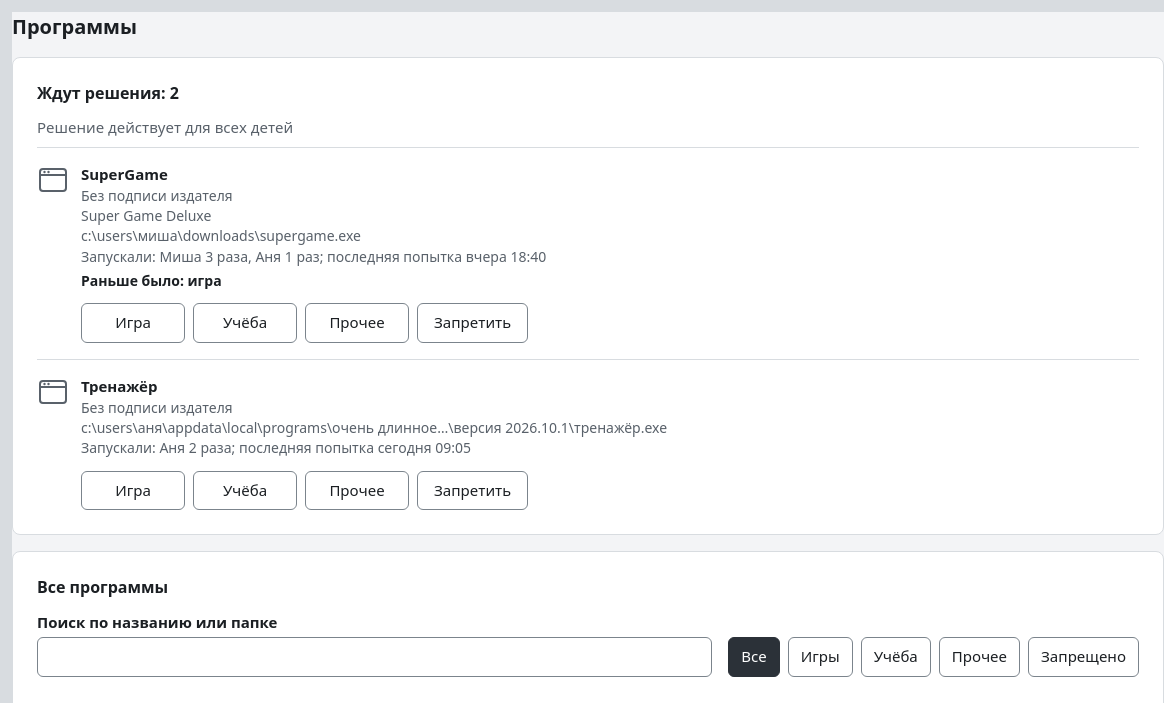
Scenario: Программы: ждут решения › «Игра»: решение сразу, строка уходит в список с категорией «Игры», сообщение с «Отменить»
Expected: the heading "Ждут решения: 2" is shown, [37,82,179,104]
Step 1. Click the button "Игра" below "Раньше было: игра" → (133, 323), box [81,303,185,343]
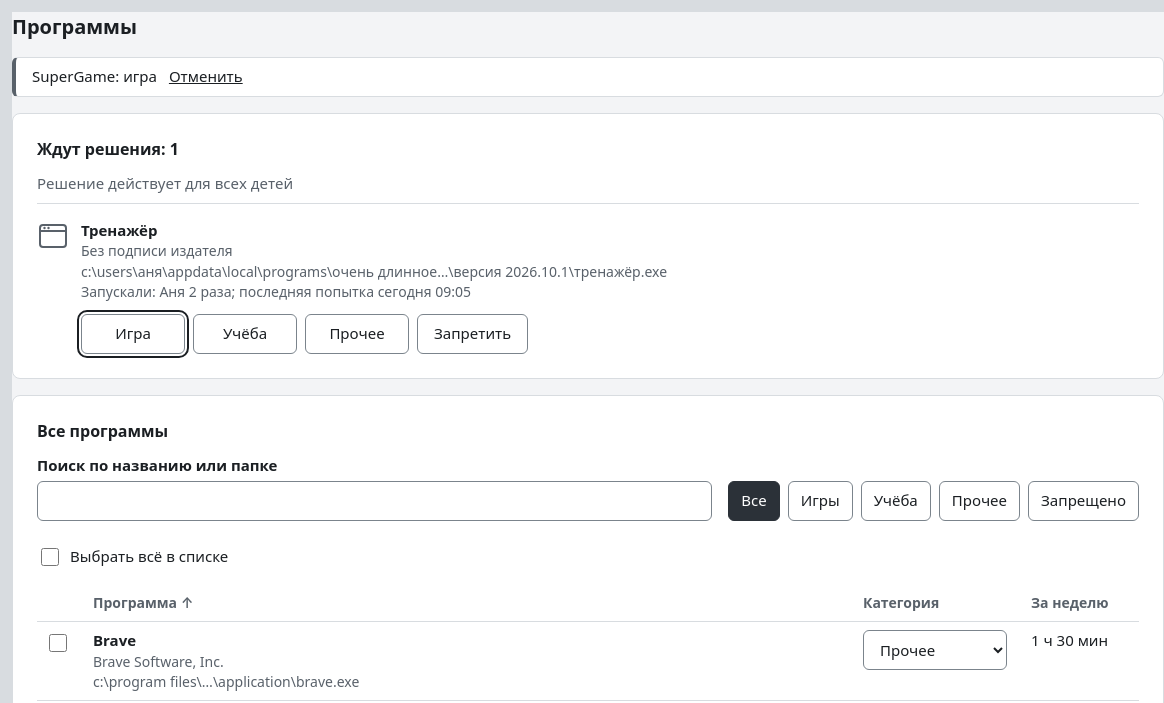
Expected: the text "SuperGame: игра" is shown, [32,66,157,88]
Expected: the heading "Ждут решения: 1" is shown, [37,138,179,160]
Expected: the button "Отменить" is shown, [169,66,243,88]
